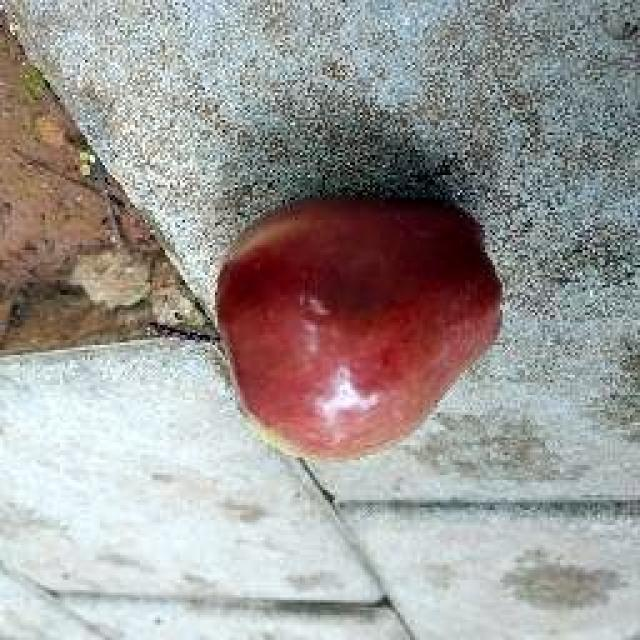Good_Apple: (215, 198, 505, 462)
